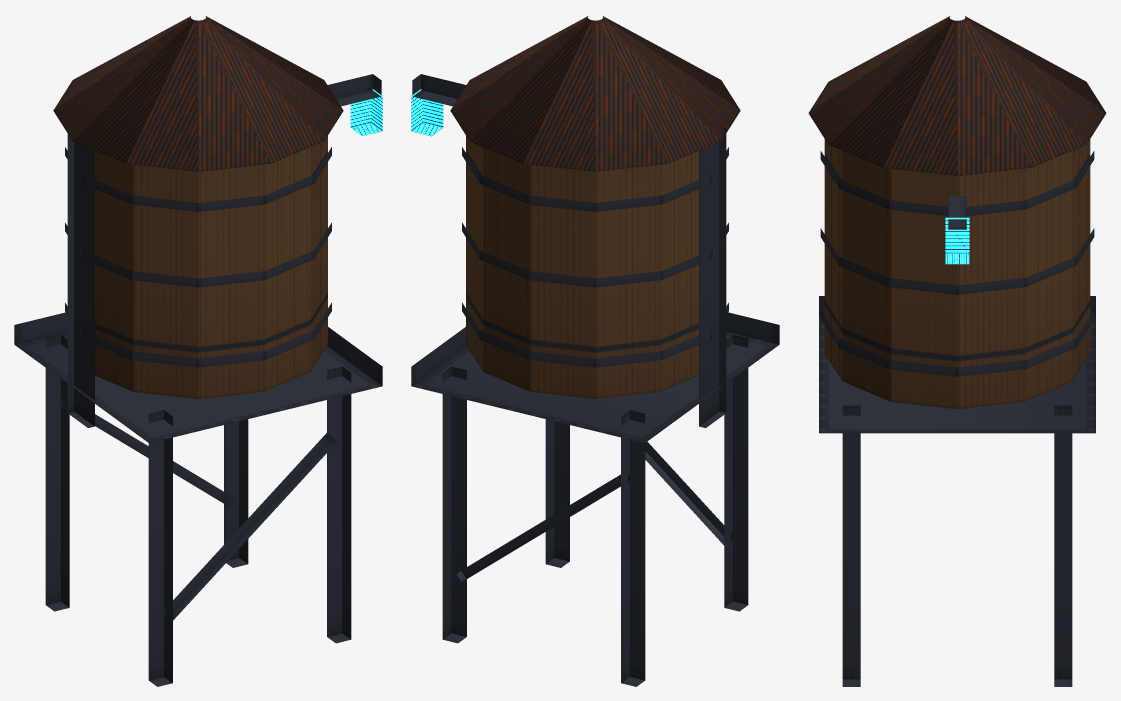
Rendered from ashblock_rooftop_watertower.glb.
3 views of the same model, side by side, from view 1: azimuth 30°, elevation 25°; view 2: azimuth 150°, elevation 25°; view 3: azimuth 270°, elevation 25° (orthographic). The views are drawn at different scales.
Visible parts, largest first — view 1: ashblock_rooftop_watertower; view 2: ashblock_rooftop_watertower; view 3: ashblock_rooftop_watertower.
Boxes of the visible parts, box(x1,y1,x2,y2) form: ashblock_rooftop_watertower: box(14, 16, 382, 686); ashblock_rooftop_watertower: box(411, 16, 779, 686); ashblock_rooftop_watertower: box(808, 16, 1106, 686).
Size of the model in its own units: 3.59 by 6.8 by 2.96.
Materials: 1 (1 with a texture image).
